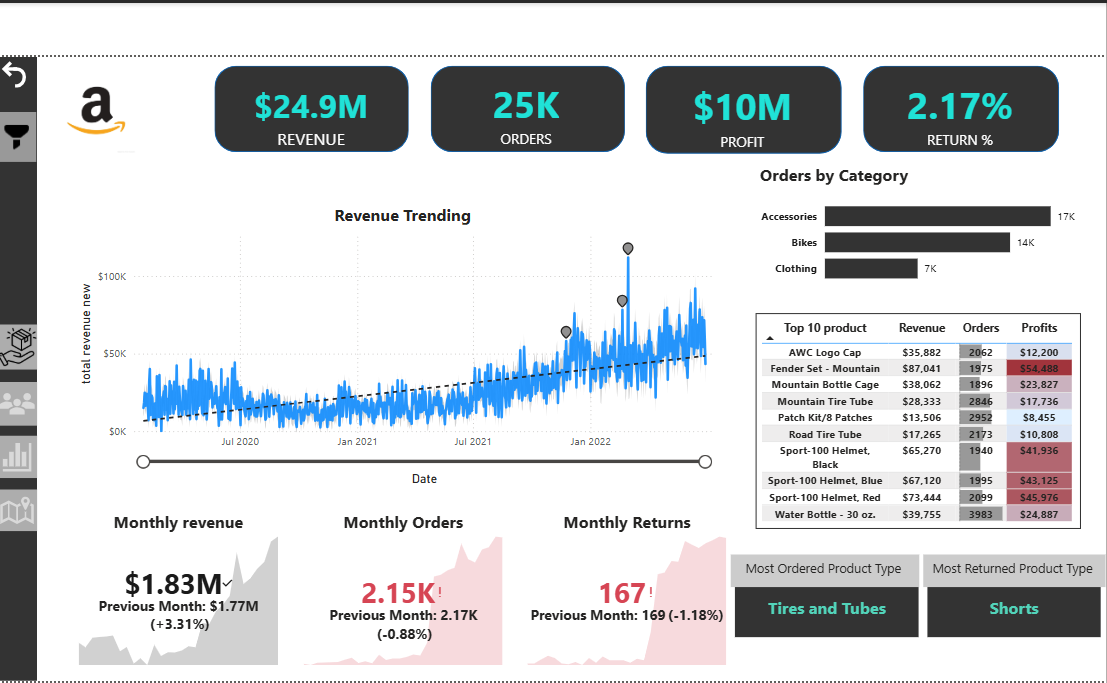

What the dashboard file says about the page in this screenshot:
{"tool":"powerbi","page":{"name":"Executive dashboard","canvas":[1280,720],"ordinal":0},"visuals":[{"type":"shape","box":[251,10.1,224.3,99.7],"z":0,"group":"g1"},{"type":"image","title":"Amazon logo","box":[64.9,11.5,98.1,101],"z":0},{"type":"cardVisual","fields":{"Data":["table measures.total revenue"]},"box":[251,14.4,223.6,108.2],"z":0,"group":"g2"},{"type":"image","box":[0,375.2,46.2,50.5],"z":0,"group":"g3"},{"type":"shape","title":"left bar","box":[0,0,46.2,719.9],"z":1000},{"type":"shape","box":[500.2,10.1,224.3,99.7],"z":1000,"group":"g1"},{"type":"cardVisual","fields":{"Data":["table measures.return rate"]},"box":[999.8,11.5,223.6,108.2],"z":1000,"group":"g2"},{"type":"image","box":[0,437.2,46.2,49.1],"z":1000,"group":"g3"},{"type":"group","id":"g1","title":"Kpi cards","box":[251,10.1,975.3,102.4],"z":2000},{"type":"shape","box":[749.3,10.1,226,101.4],"z":2000,"group":"g1"},{"type":"cardVisual","fields":{"Data":["table measures.total profit"]},"box":[748.8,13,223.6,108.2],"z":2000,"group":"g2"},{"type":"image","box":[0,499.2,46.2,47.6],"z":2000,"group":"g3"},{"type":"group","id":"g2","title":"kpi","box":[251,10.1,971,112.5],"z":3000},{"type":"cardVisual","fields":{"Data":["table measures.total order"]},"box":[499.2,10.1,223.6,108.2],"z":3000,"group":"g2"},{"type":"shape","box":[1000.3,10.1,226,99.7],"z":3000,"group":"g1"},{"type":"image","box":[0,308.8,46.2,51.9],"z":3000,"group":"g3"},{"type":"lineChart","title":"Revenue Trending","fields":{"Y":["table measures.total revenue new"],"Category":["Company Calendar Lookup.Date Hierarchy.Date"]},"box":[89.5,168.8,757.4,330.4],"z":4000},{"type":"kpi","title":"Monthly revenue","fields":{"TrendLine":["Company Calendar Lookup.Start of Month"],"Goal":["table measures.Previous month revenue"],"Indicator":["table measures.total revenue"]},"box":[89.5,523.7,240,183.2],"z":5000},{"type":"kpi","title":"Monthly Orders","fields":{"TrendLine":["Company Calendar Lookup.Start of Month"],"Indicator":["table measures.total order"],"Goal":["table measures.previous month order"]},"box":[349.1,523.7,239.5,183.2],"z":6000},{"type":"kpi","title":"Monthly Returns","fields":{"TrendLine":["Company Calendar Lookup.Start of Month"],"Indicator":["table measures.Total return"],"Goal":["table measures.previous month return"]},"box":[607.4,523.7,239.5,183.2],"z":7000},{"type":"barChart","title":"Orders by Category","fields":{"Category":["Product Categories Lookup.CategoryName"],"Y":["table measures.total order"]},"box":[875.8,122.6,375.1,151.5],"z":8000},{"type":"tableEx","fields":{"Values":["Company Product Lookup (2).ProductName","table measures.total revenue","table measures.total order","table measures.total profit"]},"box":[875.7,295.4,375.5,249.2],"z":9000},{"type":"cardVisual","fields":{"Data":["Min(Product Subcategories Lookup.SubcategoryName)"]},"box":[847.2,594.4,222.5,80.1],"z":10000},{"type":"textbox","box":[847.1,574.7,217.7,37.3],"z":11000},{"type":"cardVisual","fields":{"Data":["Min(Product Subcategories Lookup.SubcategoryName)"]},"box":[1069.7,594.4,210,80.1],"z":12000},{"type":"textbox","box":[1069.7,574.9,210,37.4],"z":13000},{"type":"actionButton","box":[0,0,45.5,39.8],"z":14000},{"type":"group","id":"g3","title":"navigation button","box":[0,308.8,46.2,238.1],"z":15000},{"type":"actionButton","title":"slicer","box":[0,63.4,45.3,58],"z":16000}]}

Visuals, with their boxes on the page's 1280x720 design canvas (x1, y1, x2, y2). These are canvas units, not pixel positions in the 1107x683 screenshot, which may show the page scaled, cropped or inside an application window:
shape: box=[251, 10, 475, 110]
"Amazon logo" image: box=[65, 12, 163, 112]
cardVisual - table measures.total revenue: box=[251, 14, 475, 123]
image: box=[0, 375, 46, 426]
"left bar" shape: box=[0, 0, 46, 720]
shape: box=[500, 10, 724, 110]
cardVisual - table measures.return rate: box=[1000, 12, 1223, 120]
image: box=[0, 437, 46, 486]
"Kpi cards" group: box=[251, 10, 1226, 112]
shape: box=[749, 10, 975, 112]
cardVisual - table measures.total profit: box=[749, 13, 972, 121]
image: box=[0, 499, 46, 547]
"kpi" group: box=[251, 10, 1222, 123]
cardVisual - table measures.total order: box=[499, 10, 723, 118]
shape: box=[1000, 10, 1226, 110]
image: box=[0, 309, 46, 361]
"Revenue Trending" lineChart: box=[90, 169, 847, 499]
"Monthly revenue" kpi: box=[90, 524, 330, 707]
"Monthly Orders" kpi: box=[349, 524, 589, 707]
"Monthly Returns" kpi: box=[607, 524, 847, 707]
"Orders by Category" barChart: box=[876, 123, 1251, 274]
tableEx - Company Product Lookup (2).ProductName x table measures.total revenue: box=[876, 295, 1251, 545]
cardVisual - Min(Product Subcategories Lookup.SubcategoryName): box=[847, 594, 1070, 674]
textbox: box=[847, 575, 1065, 612]
cardVisual - Min(Product Subcategories Lookup.SubcategoryName): box=[1070, 594, 1280, 674]
textbox: box=[1070, 575, 1280, 612]
actionButton: box=[0, 0, 46, 40]
"navigation button" group: box=[0, 309, 46, 547]
"slicer" actionButton: box=[0, 63, 45, 121]
